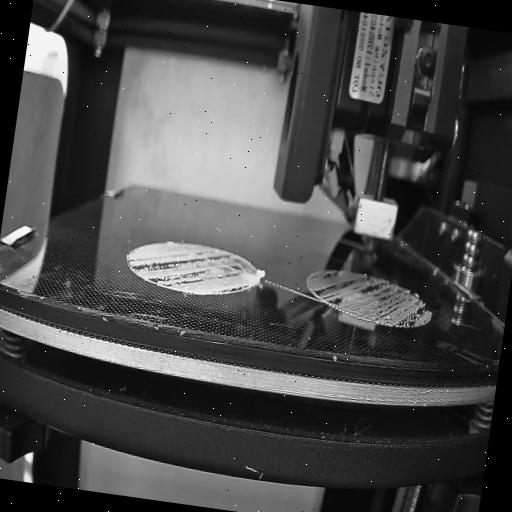under_extrusion: (306, 266, 437, 332), (124, 240, 255, 302)
